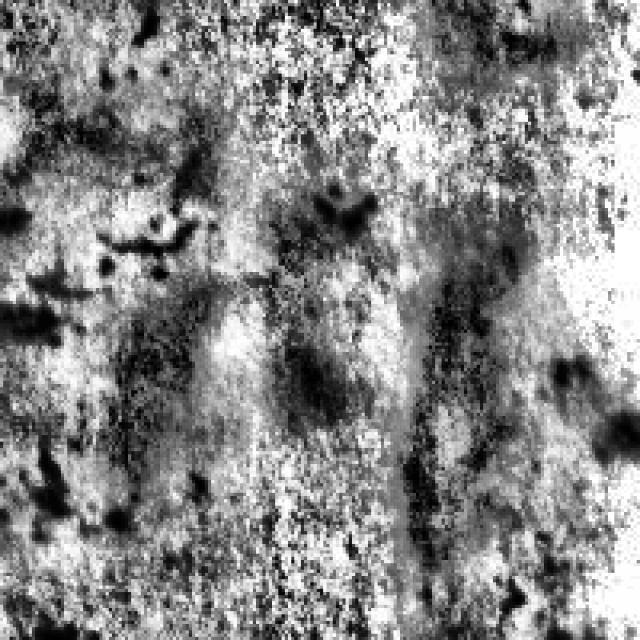Patches: (15, 438, 166, 538), (3, 247, 128, 356), (547, 342, 640, 473), (310, 170, 390, 233)
Scratches: (394, 236, 534, 564), (3, 0, 218, 195), (74, 285, 256, 496)
